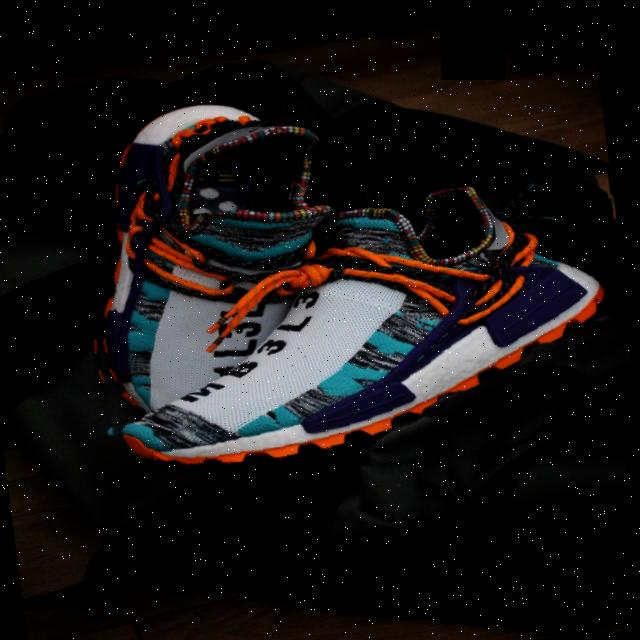shoe: (74, 141, 637, 524), (54, 60, 378, 447)
